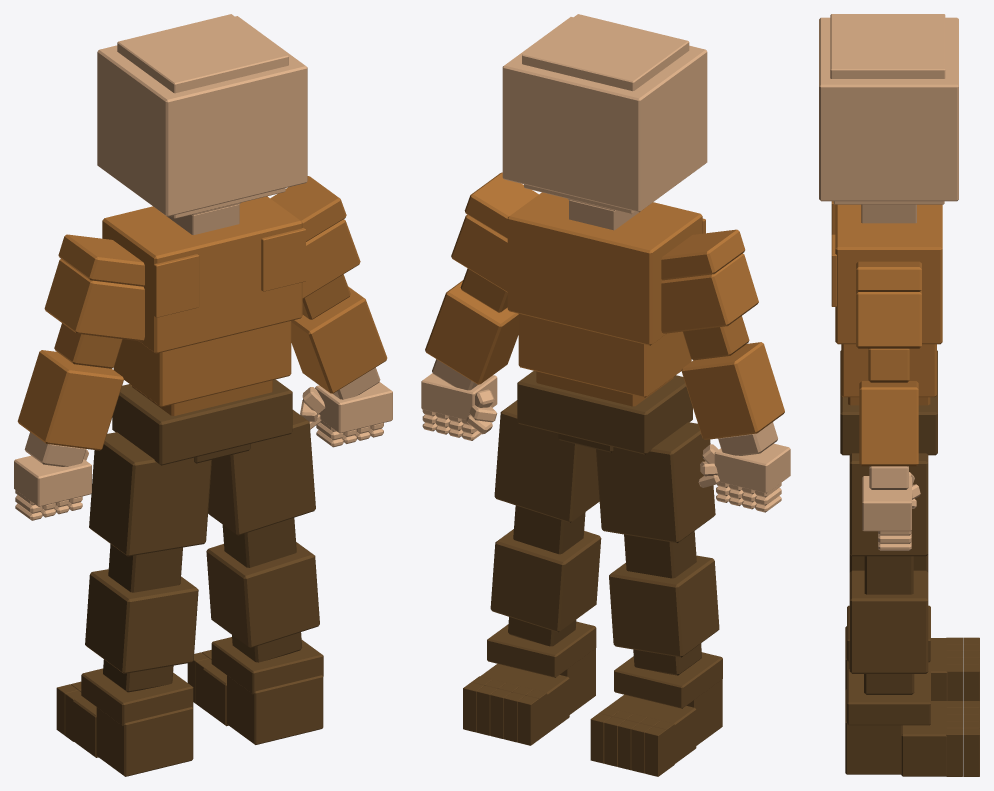
The model's file is npc_macaco_cozinheira.glb.
The picture shows the model from 3 angles, left to right: view 1: azimuth 30°, elevation 25°; view 2: azimuth 150°, elevation 25°; view 3: azimuth 270°, elevation 25°; orthographic projection. The views are drawn at different scales.
Visible parts, largest first — view 1: Geo_Head_Runtime, Geo_Chest_Runtime, Geo_Thigh_L_Runtime, Geo_Abdomen_Runtime, Geo_Shin_L_Runtime, Geo_Pelvis_Runtime, Geo_Shin_R_Runtime, Geo_Thigh_R_Runtime, Geo_HeadTop_Runtime, Geo_ForeArm_L_Runtime, Geo_ForeArm_R_Runtime, Geo_UpperArm_L_Runtime (+23 smaller); view 2: Geo_Head_Runtime, Geo_Chest_Runtime, Geo_Thigh_L_Runtime, Geo_Abdomen_Runtime, Geo_Shin_L_Runtime, Geo_Pelvis_Runtime, Geo_Shin_R_Runtime, Geo_Thigh_R_Runtime, Geo_HeadTop_Runtime, Geo_ForeArm_L_Runtime, Geo_ForeArm_R_Runtime, Geo_UpperArm_L_Runtime (+31 smaller); view 3: Geo_Head_Runtime, Geo_Chest_Runtime, Geo_HeadTop_Runtime, Geo_Shin_R_Runtime, Geo_ForeArm_R_Runtime, Geo_UpperArm_R_Runtime, Geo_Thigh_R_Runtime, Geo_AnkleCuff_R_Runtime, Geo_Heel_R_Runtime, Geo_Foot_R_Runtime, Geo_Abdomen_Runtime, Geo_Pelvis_Runtime (+17 smaller).
Boxes of the visible parts, x1=… form: Geo_Head_Runtime: x1=97, y1=16, x2=307, y2=216; Geo_Chest_Runtime: x1=102, y1=196, x2=302, y2=353; Geo_Thigh_L_Runtime: x1=89, y1=432, x2=211, y2=556; Geo_Abdomen_Runtime: x1=113, y1=321, x2=291, y2=407; Geo_Shin_L_Runtime: x1=85, y1=569, x2=198, y2=673; Geo_Pelvis_Runtime: x1=112, y1=379, x2=292, y2=465; Geo_Shin_R_Runtime: x1=206, y1=542, x2=319, y2=647; Geo_Thigh_R_Runtime: x1=208, y1=410, x2=315, y2=535; Geo_HeadTop_Runtime: x1=117, y1=14, x2=288, y2=93; Geo_ForeArm_L_Runtime: x1=17, y1=350, x2=123, y2=450; Geo_ForeArm_R_Runtime: x1=291, y1=286, x2=387, y2=393; Geo_UpperArm_L_Runtime: x1=44, y1=259, x2=144, y2=341; Geo_Head_Runtime: x1=502, y1=17, x2=707, y2=212; Geo_Chest_Runtime: x1=507, y1=192, x2=702, y2=345; Geo_Thigh_L_Runtime: x1=596, y1=422, x2=715, y2=543; Geo_Abdomen_Runtime: x1=518, y1=314, x2=691, y2=397; Geo_Shin_L_Runtime: x1=609, y1=555, x2=719, y2=657; Geo_Pelvis_Runtime: x1=517, y1=371, x2=692, y2=454; Geo_Shin_R_Runtime: x1=490, y1=529, x2=601, y2=632; Geo_Thigh_R_Runtime: x1=494, y1=400, x2=599, y2=522; Geo_HeadTop_Runtime: x1=522, y1=14, x2=689, y2=91; Geo_ForeArm_L_Runtime: x1=681, y1=342, x2=784, y2=439; Geo_ForeArm_R_Runtime: x1=425, y1=280, x2=518, y2=384; Geo_UpperArm_L_Runtime: x1=661, y1=253, x2=758, y2=333; Geo_Head_Runtime: x1=819, y1=17, x2=958, y2=201; Geo_Chest_Runtime: x1=835, y1=204, x2=942, y2=344; Geo_HeadTop_Runtime: x1=830, y1=14, x2=945, y2=78; Geo_Shin_R_Runtime: x1=849, y1=570, x2=928, y2=673; Geo_ForeArm_R_Runtime: x1=859, y1=381, x2=918, y2=466; Geo_UpperArm_R_Runtime: x1=856, y1=290, x2=921, y2=348; Geo_Thigh_R_Runtime: x1=849, y1=453, x2=928, y2=556; Geo_AnkleCuff_R_Runtime: x1=847, y1=669, x2=930, y2=725; Geo_Heel_R_Runtime: x1=845, y1=689, x2=902, y2=774; Geo_Foot_R_Runtime: x1=901, y1=701, x2=946, y2=776; Geo_Abdomen_Runtime: x1=841, y1=344, x2=936, y2=397; Geo_Pelvis_Runtime: x1=840, y1=350, x2=937, y2=455.
Bounding box in the file's own units: 1.07 × 1.98 × 0.4192.
